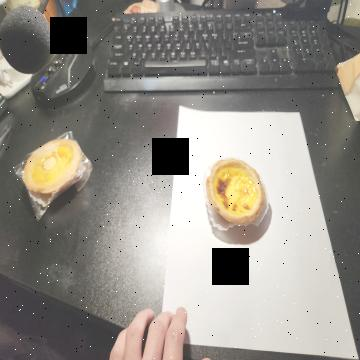EggTart: (205, 158, 265, 226)
